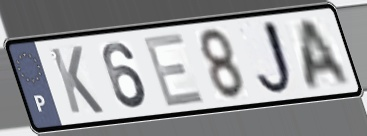6: (100, 40, 150, 110)
8: (196, 26, 248, 103)
A: (299, 16, 354, 93)
E: (140, 30, 208, 110)
J: (254, 17, 301, 99)
K: (47, 44, 107, 117)
